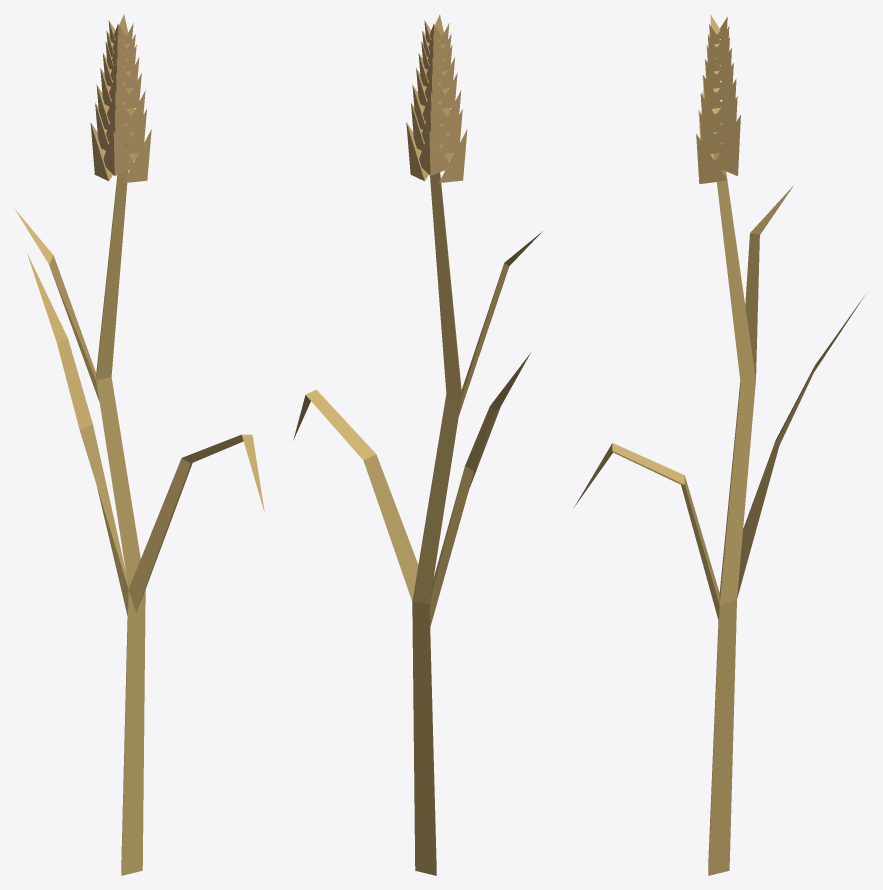
The model's file is wheat2.fbx.
3 views of the same model, side by side, from view 1: azimuth 30°, elevation 25°; view 2: azimuth 210°, elevation 25°; view 3: azimuth 270°, elevation 25° (orthographic).
Visible parts, largest first — view 1: Cylinder.002; view 2: Cylinder.002; view 3: Cylinder.002.
Part boxes in pixels (box(x1,y1,x2,y2)): Cylinder.002: box(15, 14, 264, 875); Cylinder.002: box(293, 14, 542, 875); Cylinder.002: box(574, 14, 865, 875).
Size of the model in its own units: 9.98 by 55.26 by 17.44.
